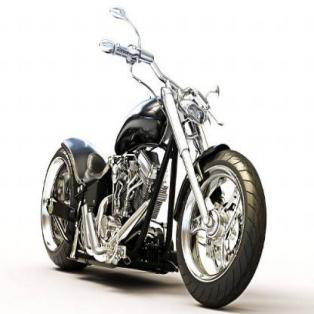Motocicleta: (32, 4, 268, 313)
